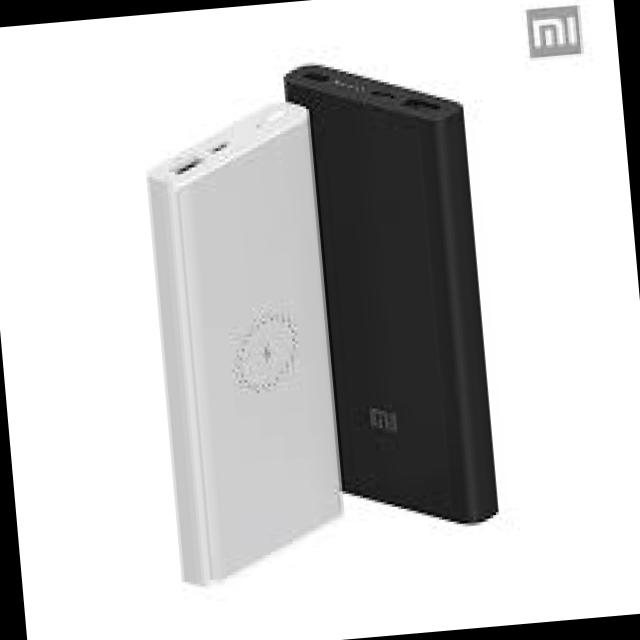portable-charger: (276, 40, 508, 541), (140, 96, 351, 588)
